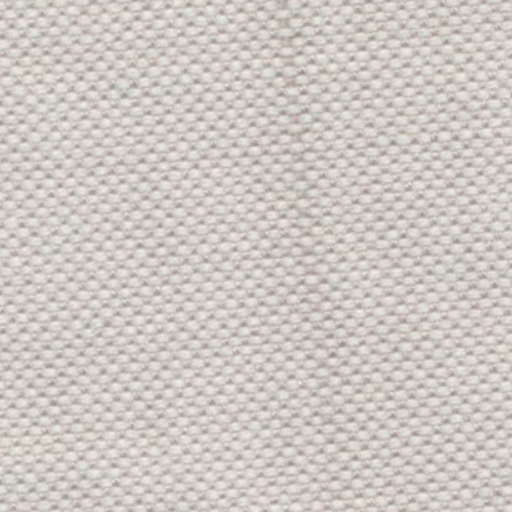TuoSha: (257, 11, 360, 488)
